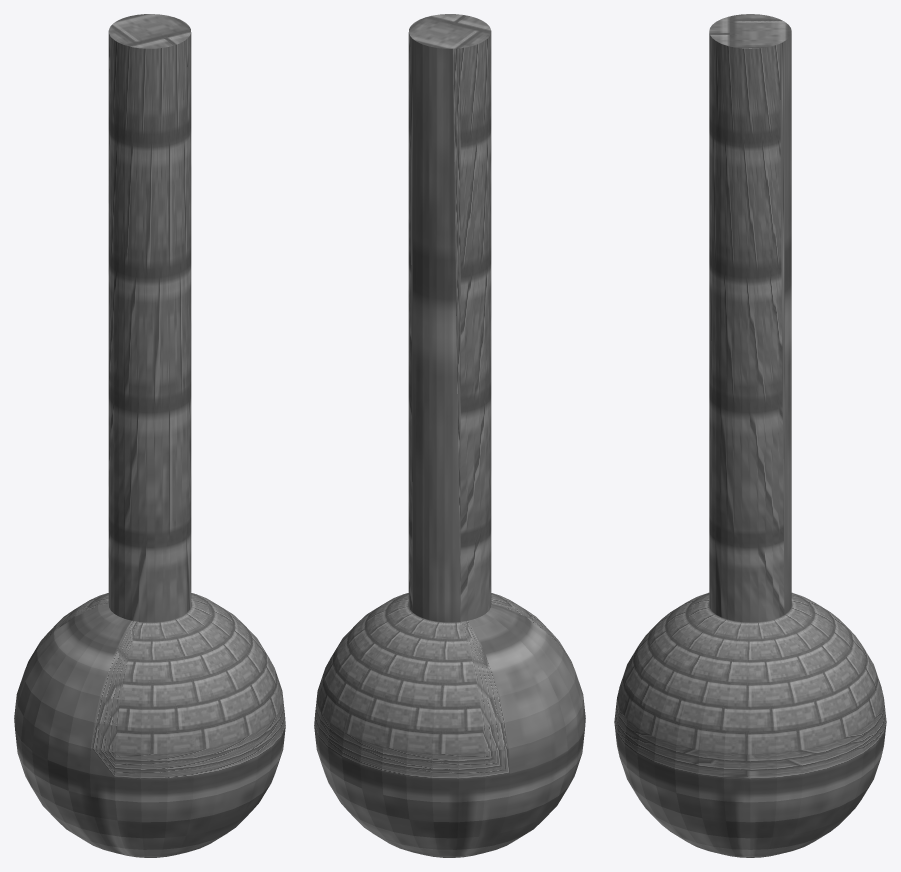
The model's file is pendulum.obj.
3 renders of one model, left to right at view 1: azimuth 30°, elevation 25°; view 2: azimuth 150°, elevation 25°; view 3: azimuth 270°, elevation 25°, orthographic.
Parts seen in each view (by area): view 1: Cylinder; view 2: Cylinder; view 3: Cylinder.
Boxes of the visible parts, x1,y1,x2,y2 form: Cylinder: (14,14,285,857); Cylinder: (314,14,585,857); Cylinder: (614,14,886,857).
Bounding box in the file's own units: 2 × 6.6 × 2.
Materials: 1 (1 with a texture image).
